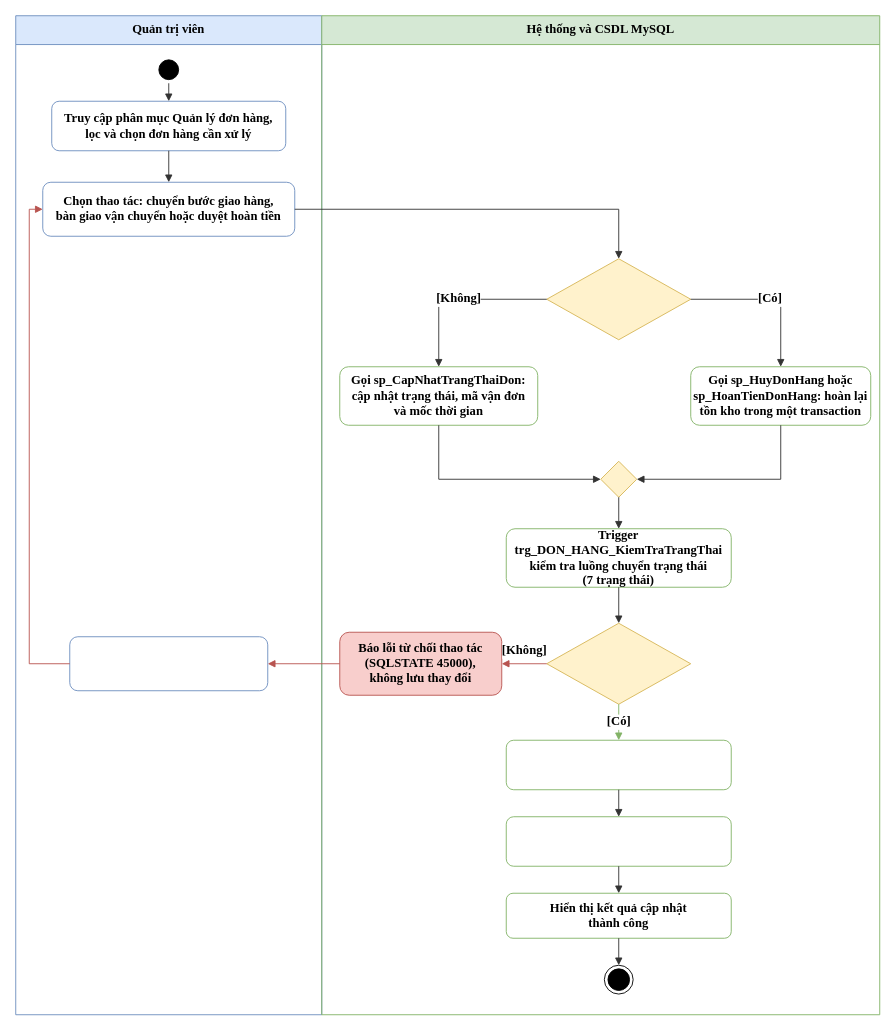
Some shapes in this 896 by 1031 pixel diagram are drawn without their labels. Each missing label, with the centre of its shape:
"Chuyển trạng thái hợp lệ?" belongs at point (618, 663).
"Gửi email thông báo cập nhật trạng thái đơn hàng cho khách" belongs at point (618, 841).
"Hủy đơn hoặc duyệt hoàn tiền?" belongs at point (618, 299).
"Kiểm tra lại trạng thái hiện tại và chọn thao tác hợp lệ" belongs at point (168, 663).
"Lưu trạng thái mới cùng các mốc thời gian" belongs at point (618, 764).
